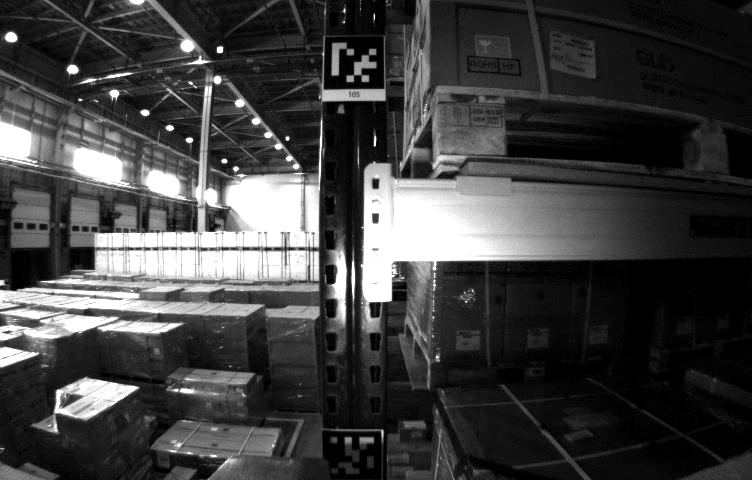True Barcode: (545, 29, 599, 83)
